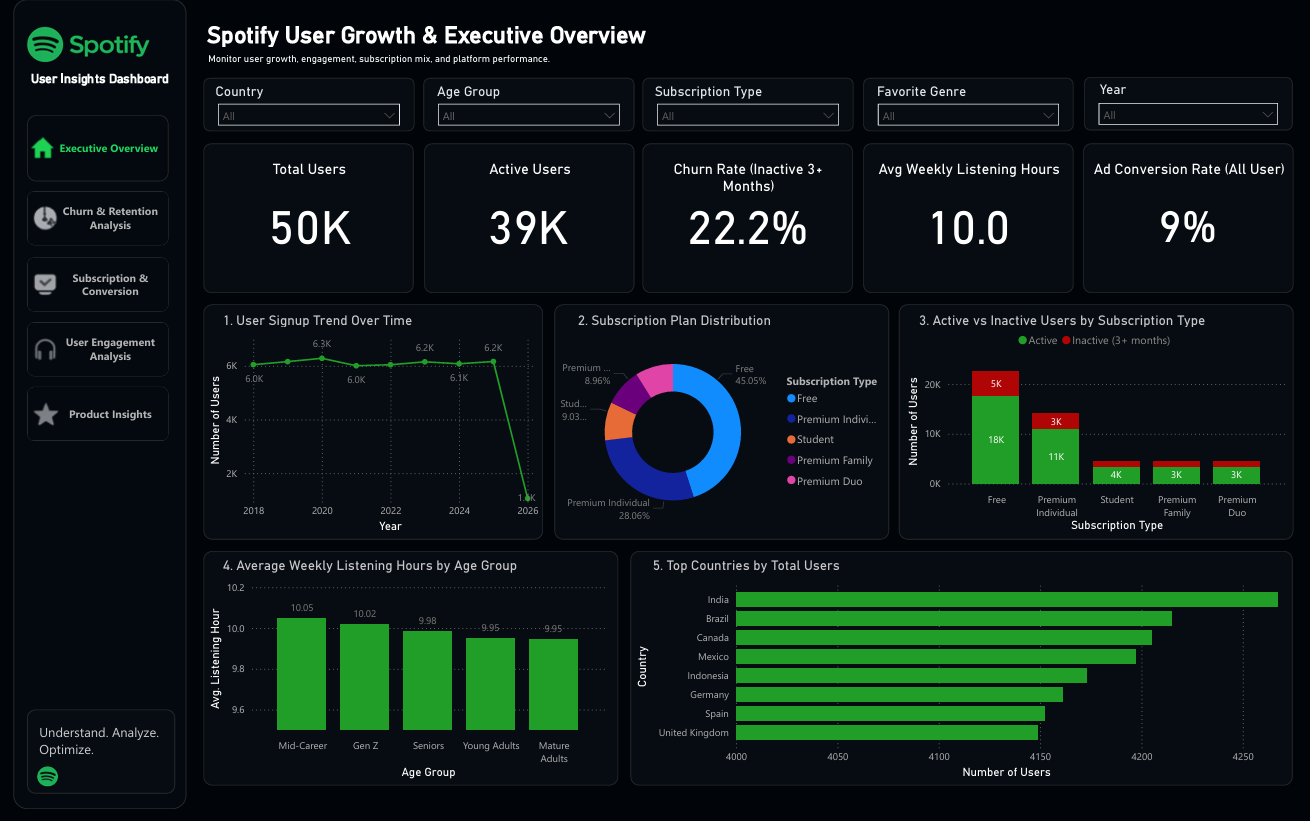

This screenshot's page, from the dashboard's own definition file:
{"tool":"powerbi","page":{"name":"Executive Overview","canvas":[1620,1024],"ordinal":0},"visuals":[{"type":"shape","box":[15.7,0,214.3,1001.4],"z":0},{"type":"card","title":"Total Users","fields":{"Values":["Data.Total Users"]},"box":[251.1,177.8,260,185],"z":1000},{"type":"card","title":"Avg Weekly Listening Hours","fields":{"Values":["Data.Avg Weekly Listening Hours"]},"box":[1067.1,177.9,260,185],"z":2000},{"type":"card","title":"Active Users","fields":{"Values":["Data.Active Users"]},"box":[523.6,177.9,260,185],"z":3000},{"type":"card","title":"Churn Rate (Inactive 3+ Months)","fields":{"Values":["Data.Churn Rate %"]},"box":[794.3,177.9,260,185],"z":4000},{"type":"card","title":"Ad Conversion Rate (All User)","fields":{"Values":["Data.Ad Conversion Rate %"]},"box":[1338.6,177.9,260,185],"z":5000},{"type":"slicer","title":" ","fields":{"Values":["Data.country"]},"box":[250.9,96.7,260.9,66.1],"z":6000},{"type":"slicer","title":" ","fields":{"Values":["Data.Age Group"]},"box":[523,96.7,260.9,66.1],"z":7000},{"type":"slicer","title":" ","fields":{"Values":["Data.subscription_type"]},"box":[793.9,96.7,260.9,66.1],"z":8000},{"type":"slicer","title":" ","fields":{"Values":["Data.favorite_genre"]},"box":[1067,96.7,260,66.1],"z":9000},{"type":"clusteredColumnChart","title":" ","fields":{"Category":["Data.Age Group"],"Y":["Data.Avg Weekly Listening Hours"]},"box":[251,681.5,513,290],"z":10000},{"type":"donutChart","title":" ","fields":{"Y":["Data.Total Users"],"Category":["Data.subscription_type"]},"box":[685,376.5,413.5,291],"z":11000},{"type":"lineChart","title":" ","fields":{"Y":["Data.Total Users"],"Category":["Data.Year"]},"box":[251,376.5,420,291],"z":12000},{"type":"clusteredBarChart","title":" ","fields":{"Category":["Data.country"],"Y":["Data.Total Users"]},"box":[779,681.5,819,290],"z":13000},{"type":"textbox","title":"Country","box":[261.4,102.9,90,25.7],"z":14000},{"type":"textbox","title":"Age Group","box":[535,102.9,110,22.9],"z":15000},{"type":"textbox","title":"Subscription Type","box":[804.3,104.3,180,24.3],"z":16000},{"type":"textbox","title":"Favorite Genre","box":[1078.6,102.9,180,25.7],"z":17000},{"type":"textbox","title":"4. Average Weekly Listening Hours by Age Group","box":[270,690,392.2,24.4],"z":18000},{"type":"textbox","title":"2. Subscription Plan Distribution","box":[708.6,385.7,258.6,25.7],"z":19000},{"type":"textbox","title":"5. Top Countries by Total Users","box":[801.4,690,257.1,25.7],"z":20000},{"type":"textbox","title":"1. User Signup Trend Over Time","box":[270,385.7,260,25.7],"z":21000},{"type":"slicer","title":" ","fields":{"Values":["Data.Year"]},"box":[1340,96,258,66],"z":22000},{"type":"textbox","title":"Year","box":[1354.3,101.4,55.7,25.7],"z":23000},{"type":"columnChart","title":" ","fields":{"Category":["Data.subscription_type"],"Y":["Data.Total Users"],"Series":["Data.Activity Status"]},"box":[1111,376.5,487.5,291],"z":24000},{"type":"textbox","title":"3. Active vs Inactive Users by Subscription Type","box":[1131.4,385.7,378.6,22.9],"z":25000},{"type":"shape","box":[33,878,183,104],"z":26000},{"type":"textbox","box":[42.5,889.5,165.5,57],"z":27000},{"type":"textbox","title":"User Insights Dashboard","box":[15.8,87.7,214.2,23.1],"z":28000},{"type":"textbox","title":"Spotify User Growth & Executive Overview","box":[251,27,559,31],"z":29000},{"type":"actionButton","box":[32.9,142.9,175,82.5],"z":30000},{"type":"actionButton","box":[32.9,236.7,175,67.5],"z":31000},{"type":"actionButton","box":[32.9,318.8,175,67.1],"z":32000},{"type":"actionButton","box":[32.9,398.8,175,67.5],"z":33000},{"type":"actionButton","box":[32.9,478.8,175,67.5],"z":34000},{"type":"image","box":[0,0,225.7,121.4],"z":35000},{"type":"card","title":"Ad Conversion Rate %","fields":{"Values":["Data.Ad Conversion Rate %"]},"box":[1338.5,236.2,260,75.4],"z":36000},{"type":"card","title":"Avg Weekly Listening Hours","fields":{"Values":["Data.Avg Weekly Listening Hours"]},"box":[1066.9,236.2,260,75.4],"z":37000},{"type":"card","title":"Churn Rate %","fields":{"Values":["Data.Churn Rate %"]},"box":[793.8,236.2,260,75.4],"z":38000},{"type":"card","title":"Active Users","fields":{"Values":["Data.Active Users"]},"box":[523.1,236.2,260,75.4],"z":39000},{"type":"card","title":"Total Users","fields":{"Values":["Data.Total Users"]},"box":[251.5,236.2,260,75.4],"z":40000},{"type":"image","box":[42.7,947.3,30,27.3],"z":41000},{"type":"textbox","title":"Monitor user growth, engagement, subscription mix, and platform performance.","box":[251.7,65.8,558.3,17.5],"z":42000}]}

Visuals, with their boxes on the page's 1620x1024 design canvas (x1, y1, x2, y2). These are canvas units, not pixel positions in the 1310x821 screenshot, which may show the page scaled, cropped or inside an application window:
shape: 16 0 230 1001
"Total Users" card: 251 178 511 363
"Avg Weekly Listening Hours" card: 1067 178 1327 363
"Active Users" card: 524 178 784 363
"Churn Rate (Inactive 3+ Months)" card: 794 178 1054 363
"Ad Conversion Rate (All User)" card: 1339 178 1599 363
" " slicer: 251 97 512 163
" " slicer: 523 97 784 163
" " slicer: 794 97 1055 163
" " slicer: 1067 97 1327 163
" " clusteredColumnChart: 251 682 764 972
" " donutChart: 685 376 1098 668
" " lineChart: 251 376 671 668
" " clusteredBarChart: 779 682 1598 972
"Country" textbox: 261 103 351 129
"Age Group" textbox: 535 103 645 126
"Subscription Type" textbox: 804 104 984 129
"Favorite Genre" textbox: 1079 103 1259 129
"4. Average Weekly Listening Hours by Age Group" textbox: 270 690 662 714
"2. Subscription Plan Distribution" textbox: 709 386 967 411
"5. Top Countries by Total Users" textbox: 801 690 1058 716
"1. User Signup Trend Over Time" textbox: 270 386 530 411
" " slicer: 1340 96 1598 162
"Year" textbox: 1354 101 1410 127
" " columnChart: 1111 376 1598 668
"3. Active vs Inactive Users by Subscription Type" textbox: 1131 386 1510 409
shape: 33 878 216 982
textbox: 42 890 208 946
"User Insights Dashboard" textbox: 16 88 230 111
"Spotify User Growth & Executive Overview" textbox: 251 27 810 58
actionButton: 33 143 208 225
actionButton: 33 237 208 304
actionButton: 33 319 208 386
actionButton: 33 399 208 466
actionButton: 33 479 208 546
image: 0 0 226 121
"Ad Conversion Rate %" card: 1338 236 1598 312
"Avg Weekly Listening Hours" card: 1067 236 1327 312
"Churn Rate %" card: 794 236 1054 312
"Active Users" card: 523 236 783 312
"Total Users" card: 252 236 512 312
image: 43 947 73 975
"Monitor user growth, engagement, subscription mix, and platform performance." textbox: 252 66 810 83
